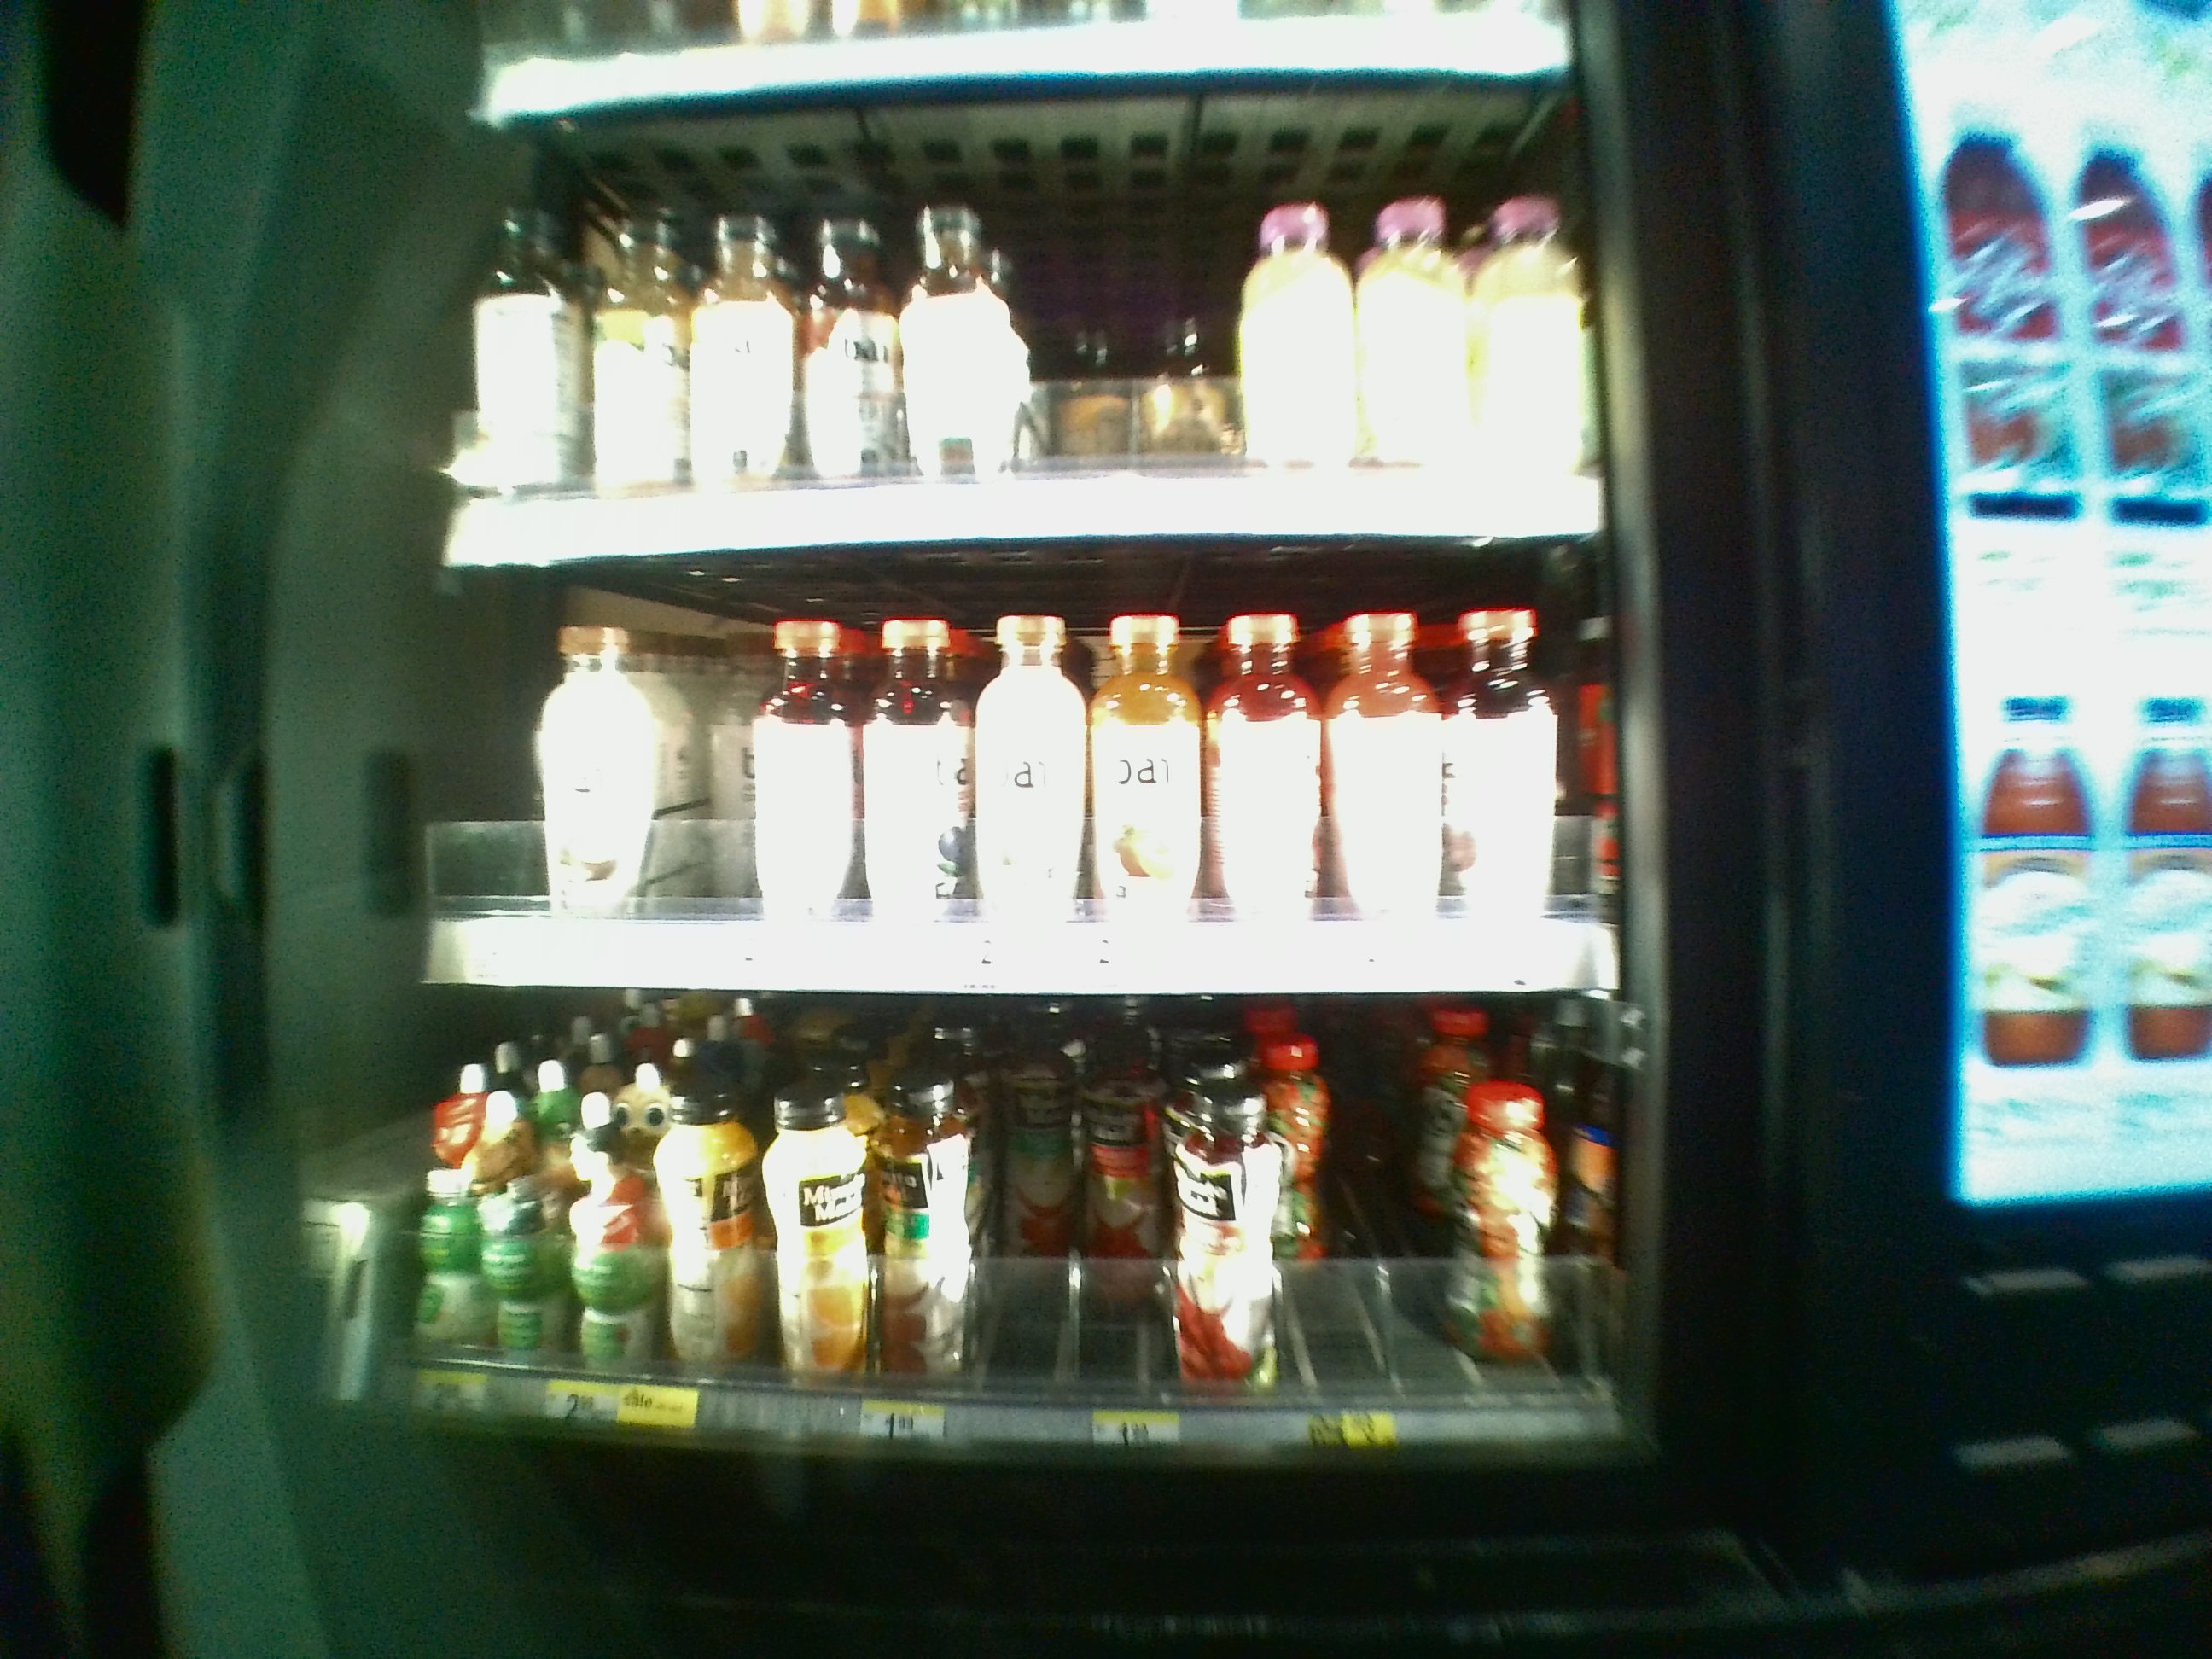shelf: (404, 1002, 1634, 1607), (416, 101, 1611, 561), (425, 568, 1615, 993)
